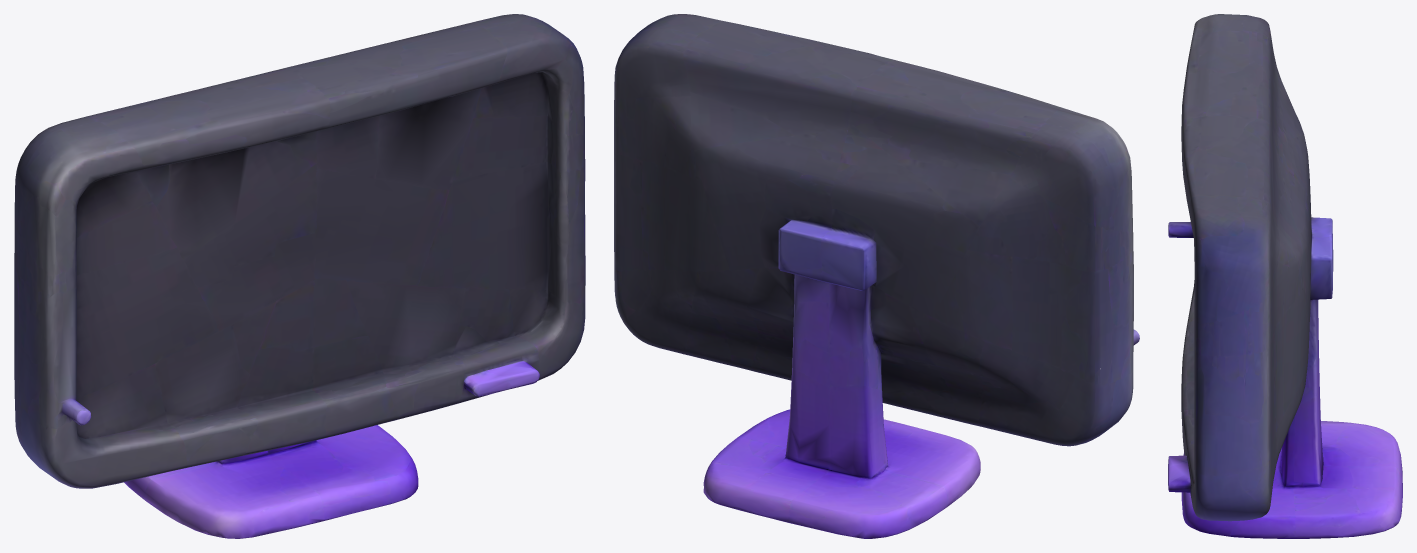
File: pm_monitor.glb
The picture shows the model from 3 angles, left to right: view 1: azimuth 30°, elevation 25°; view 2: azimuth 150°, elevation 25°; view 3: azimuth 270°, elevation 25°; orthographic projection. The views are drawn at different scales.
Visible parts, largest first — view 1: tripo_node_3cc5e77e-1a9c-4775-84a5-83ac86a85feb; view 2: tripo_node_3cc5e77e-1a9c-4775-84a5-83ac86a85feb; view 3: tripo_node_3cc5e77e-1a9c-4775-84a5-83ac86a85feb.
Boxes of the visible parts, x1,y1,x2,y2 form: tripo_node_3cc5e77e-1a9c-4775-84a5-83ac86a85feb: [14, 14, 585, 538]; tripo_node_3cc5e77e-1a9c-4775-84a5-83ac86a85feb: [614, 14, 1139, 538]; tripo_node_3cc5e77e-1a9c-4775-84a5-83ac86a85feb: [1168, 14, 1402, 538].
Bounding box in the file's own units: 0.9801 × 0.7276 × 0.4132.
Materials: 1 (1 with a texture image).
